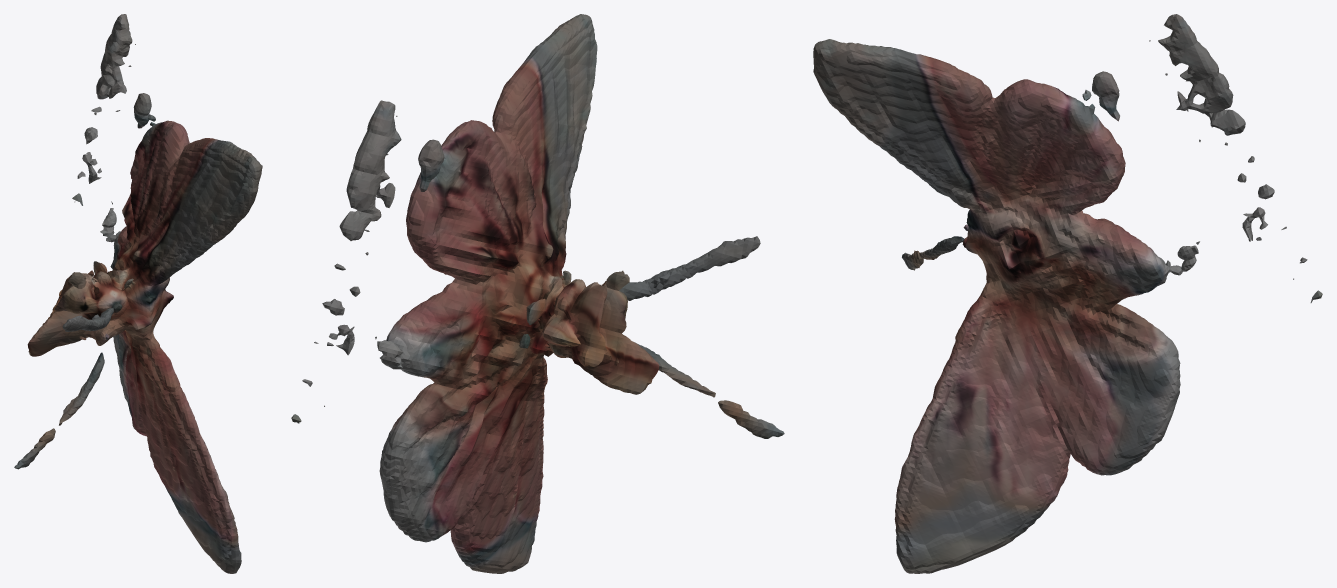
File: glow_moth.glb
The picture shows the model from 3 angles, left to right: view 1: azimuth 30°, elevation 25°; view 2: azimuth 150°, elevation 25°; view 3: azimuth 270°, elevation 25°; orthographic projection. The views are drawn at different scales.
Visible parts, largest first — view 1: world; view 2: world; view 3: world.
Boxes of the visible parts, x1=… form: world: x1=14, y1=14, x2=262, y2=573; world: x1=291, y1=14, x2=784, y2=573; world: x1=813, y1=14, x2=1322, y2=573.
Size of the model in its own units: 0.1604 by 0.3 by 0.2468.
1 material, 1 textured.
